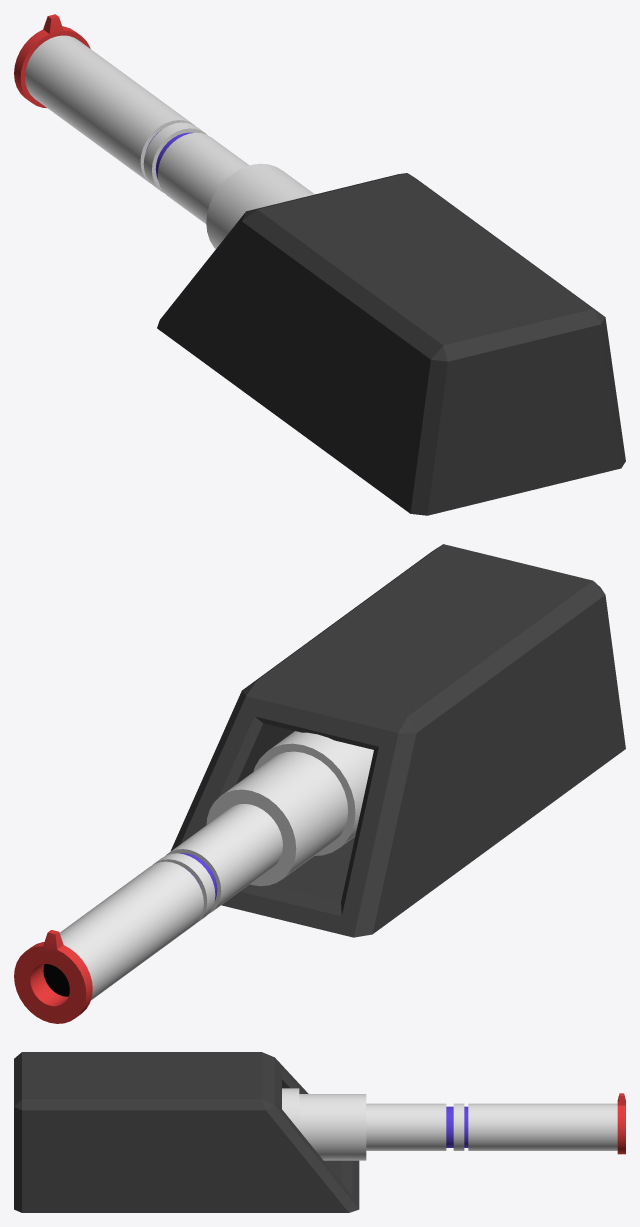
Rendered from SpaceShipLaser.fbx.
3 views of the same model, one above another, from view 1: azimuth 30°, elevation 25°; view 2: azimuth 150°, elevation 25°; view 3: azimuth 270°, elevation 25° (orthographic). The views are drawn at different scales.
Visible parts, largest first — view 1: Cube, Cylinder; view 2: Cube, Cylinder; view 3: Cube, Cylinder.
Boxes of the visible parts, left/top/right/bottom form: Cube: left=157, top=173, right=625, bottom=515; Cylinder: left=14, top=14, right=315, bottom=248; Cube: left=170, top=544, right=625, bottom=937; Cylinder: left=14, top=731, right=373, bottom=1023; Cube: left=14, top=1052, right=359, bottom=1212; Cylinder: left=282, top=1088, right=625, bottom=1160.
Size of the model in its own units: 200 by 142 by 762.
